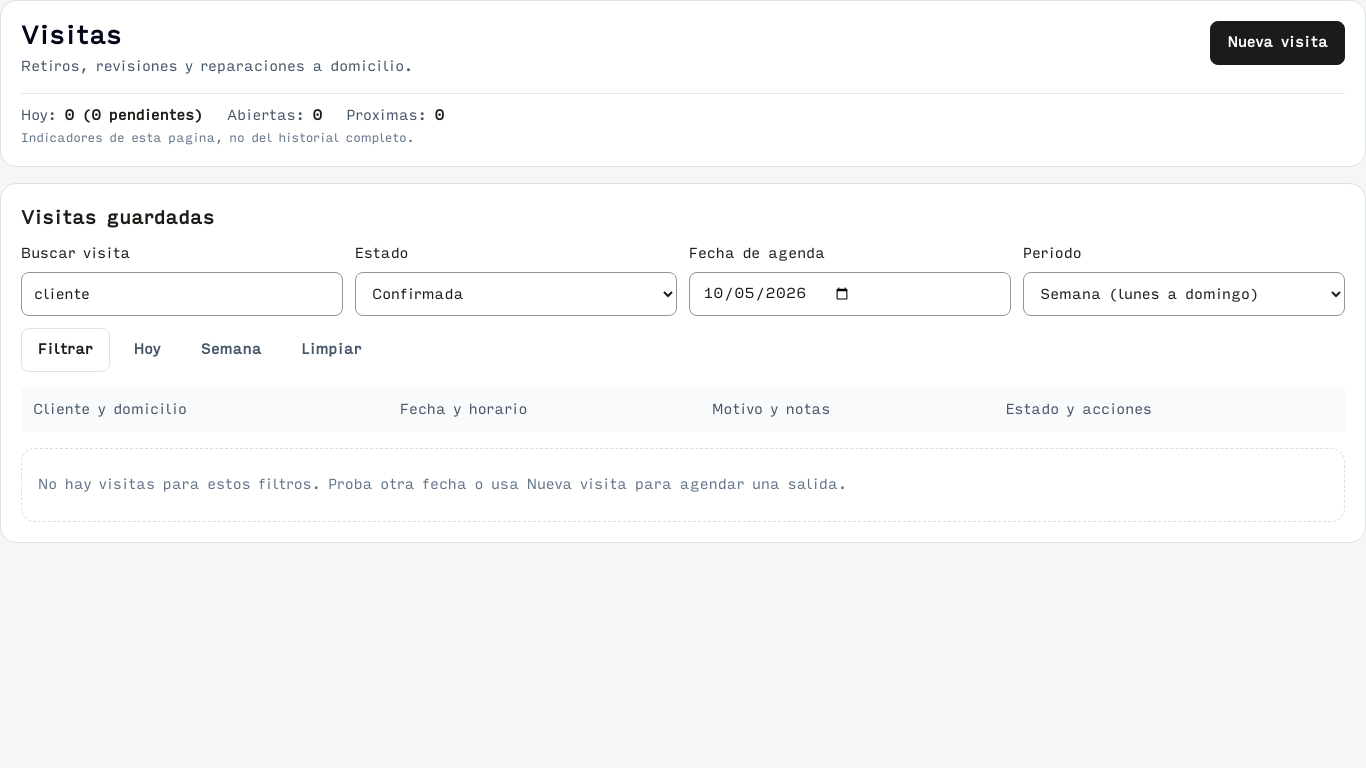
Test case: one visit workflow › starts with the list and one primary new-visit entry, with no assignment controls
Expected: the field labelled "Nombre del cliente" is not shown
Click the button "Nueva visita".
click(1278, 43)  # box [1210,21,1345,65]
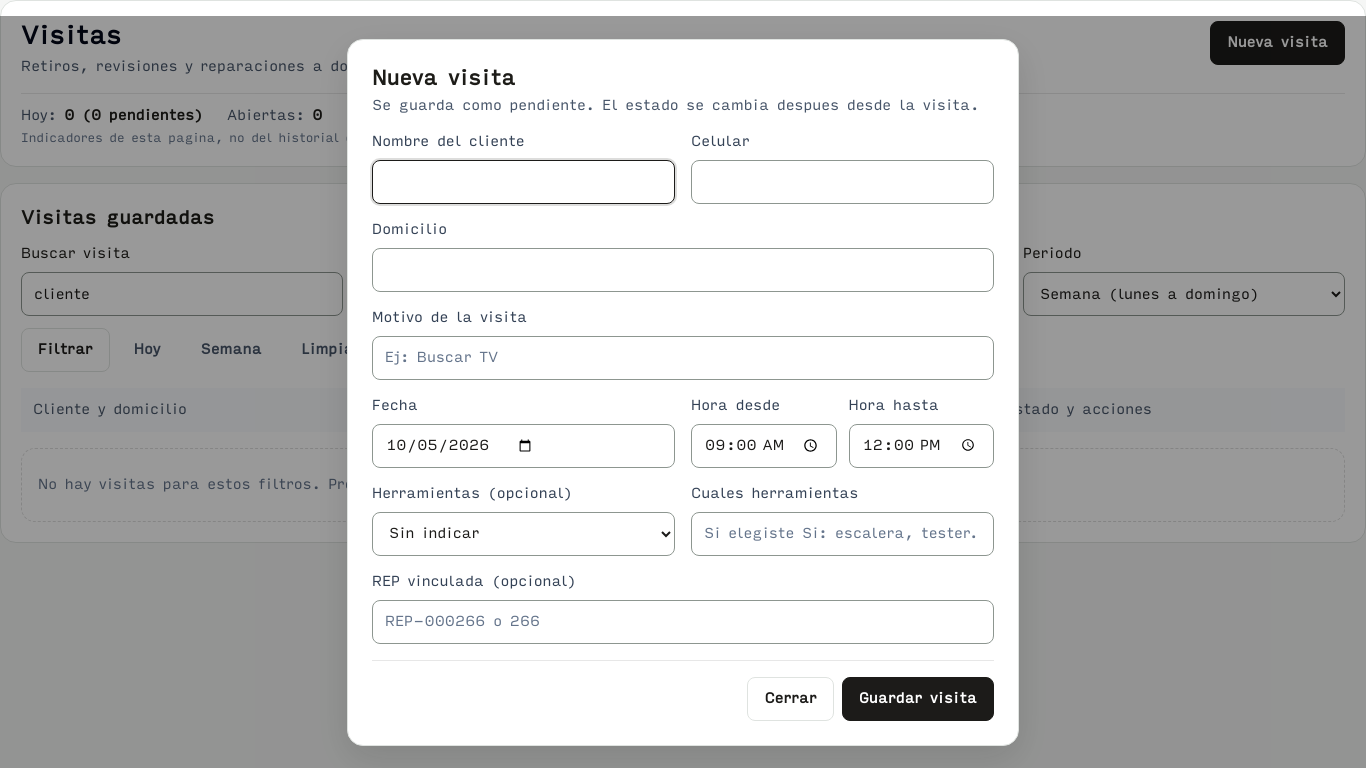
Now the dropdown labelled "Herramientas (opcional)" is shown, box [372,512,675,556]
Now the field labelled "Cuales herramientas" is shown, box [691,512,994,556]
Now the field labelled "REP vinculada (opcional)" is shown, box [372,600,994,644]
